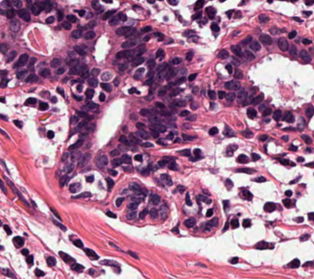nucleus: (3, 176, 28, 205), (13, 53, 28, 67), (69, 64, 86, 74), (78, 153, 90, 167), (59, 251, 74, 262), (205, 217, 217, 230), (116, 49, 132, 58), (224, 80, 240, 89), (149, 123, 165, 132), (250, 93, 263, 104), (96, 155, 107, 168), (85, 248, 98, 259), (68, 139, 82, 149), (255, 241, 272, 249), (77, 110, 92, 119), (160, 174, 172, 185), (52, 220, 65, 230), (169, 77, 185, 85), (231, 45, 242, 56), (165, 68, 176, 79), (226, 144, 237, 155), (259, 34, 271, 44), (121, 40, 136, 48), (73, 45, 85, 55), (237, 90, 246, 103), (132, 56, 143, 66), (223, 126, 234, 136), (241, 190, 252, 200), (50, 208, 60, 219), (184, 217, 195, 227), (25, 73, 37, 82), (137, 129, 149, 138), (72, 192, 90, 198), (100, 260, 118, 266), (197, 195, 210, 203), (87, 77, 97, 87), (119, 135, 129, 145), (150, 194, 160, 204), (13, 236, 23, 246), (249, 41, 260, 50), (217, 49, 228, 58), (7, 50, 16, 61), (156, 63, 167, 72), (100, 82, 111, 91), (129, 134, 140, 143), (237, 154, 248, 163), (59, 175, 68, 186), (129, 182, 140, 191), (69, 183, 80, 192), (264, 202, 275, 211), (85, 102, 97, 110), (139, 108, 151, 116), (71, 263, 83, 271), (71, 29, 81, 38), (84, 30, 94, 39), (244, 50, 254, 59), (50, 58, 60, 67), (40, 68, 50, 77), (101, 71, 111, 80), (225, 92, 235, 101), (247, 108, 256, 118), (76, 120, 86, 129), (121, 154, 131, 163), (236, 168, 254, 173), (126, 210, 136, 219), (137, 45, 145, 56), (67, 58, 78, 66), (147, 58, 155, 69), (170, 88, 181, 96), (273, 109, 281, 120), (173, 99, 185, 106), (182, 134, 196, 140), (178, 149, 190, 156), (106, 177, 113, 189), (242, 35, 251, 44), (262, 107, 271, 116), (71, 151, 80, 160), (46, 257, 55, 266), (16, 70, 26, 78), (85, 88, 93, 98), (242, 129, 252, 137), (112, 158, 122, 166), (169, 160, 177, 170), (127, 202, 137, 210), (139, 208, 147, 218), (230, 218, 238, 228), (25, 97, 36, 104), (160, 109, 171, 116), (149, 115, 160, 122), (2, 269, 13, 276), (154, 32, 163, 40), (185, 51, 193, 60), (80, 70, 89, 78), (56, 87, 64, 96), (39, 102, 48, 110), (70, 115, 78, 124), (185, 193, 191, 205), (115, 197, 123, 206), (149, 209, 157, 218), (3, 225, 11, 234), (73, 239, 82, 247), (0, 43, 7, 53), (156, 48, 163, 58), (171, 57, 181, 64), (128, 251, 138, 258), (184, 30, 195, 36), (29, 57, 35, 68), (254, 176, 265, 182), (91, 68, 99, 76), (234, 70, 242, 78), (156, 72, 164, 80), (158, 87, 166, 95), (158, 158, 166, 166), (242, 219, 250, 227), (225, 64, 232, 73), (208, 90, 215, 99), (13, 120, 22, 127), (110, 149, 119, 156), (61, 152, 68, 161), (35, 269, 44, 276), (179, 110, 189, 116), (226, 179, 232, 189), (106, 211, 116, 217), (56, 67, 64, 74), (188, 73, 196, 80), (209, 127, 217, 134), (1, 129, 8, 137), (194, 149, 201, 157), (65, 164, 73, 171), (128, 88, 139, 93), (0, 180, 5, 191), (188, 35, 197, 41), (1, 78, 7, 87), (155, 102, 164, 108), (187, 114, 196, 120), (258, 134, 267, 140), (108, 169, 117, 175), (26, 255, 32, 264), (218, 91, 225, 98), (259, 104, 266, 111), (151, 130, 158, 137), (252, 153, 259, 160), (134, 154, 141, 161), (86, 175, 93, 182), (206, 209, 213, 216), (136, 122, 144, 128), (47, 130, 53, 138), (73, 95, 82, 100), (223, 200, 228, 209), (119, 64, 126, 70), (145, 78, 152, 84), (76, 84, 82, 91), (167, 132, 173, 139), (142, 167, 148, 174), (21, 249, 28, 255), (230, 257, 237, 263), (136, 68, 144, 73), (178, 68, 186, 73), (147, 70, 152, 78), (99, 93, 104, 101), (157, 139, 165, 144), (142, 142, 152, 146), (223, 222, 228, 230), (143, 35, 149, 41), (190, 103, 196, 109), (51, 96, 56, 102), (178, 186, 184, 191), (141, 188, 146, 194), (172, 226, 177, 232), (192, 87, 197, 92), (1, 114, 6, 119), (88, 269, 93, 274), (114, 78, 118, 84), (31, 200, 35, 206), (1, 70, 6, 74), (0, 97, 4, 102), (210, 103, 214, 108), (183, 124, 189, 127), (264, 119, 269, 122), (63, 78, 67, 81), (175, 138, 179, 141)
